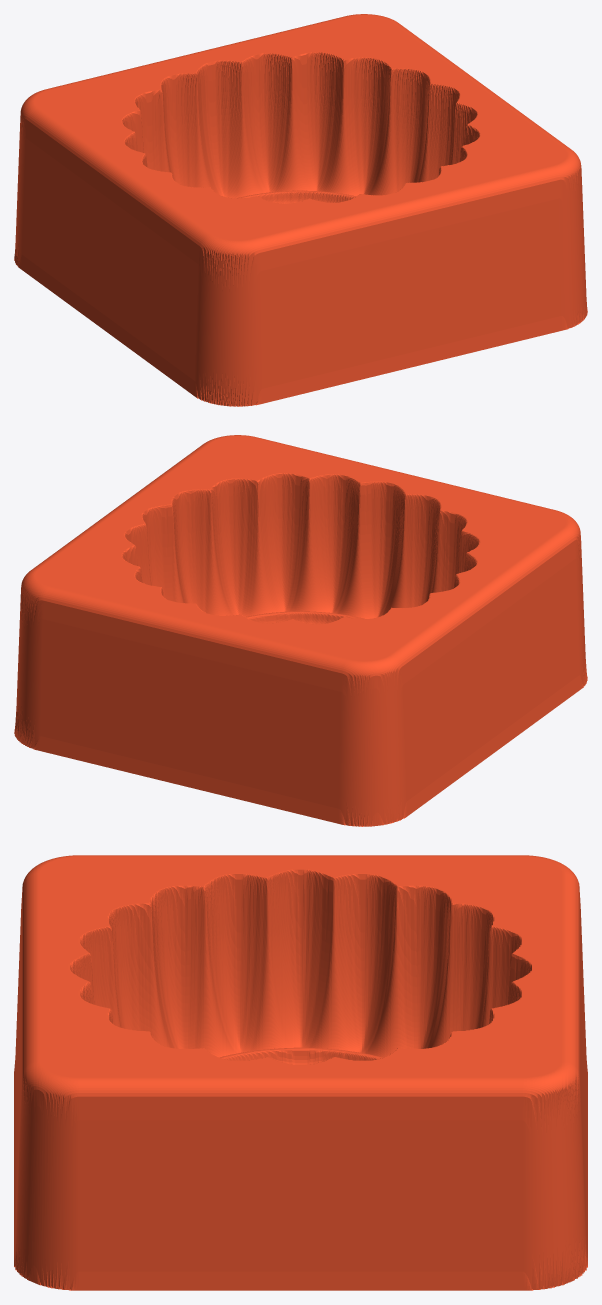
File: mold.glb
The picture shows the model from 3 angles, top to bottom: view 1: azimuth 30°, elevation 25°; view 2: azimuth 150°, elevation 25°; view 3: azimuth 270°, elevation 25°; orthographic projection. The views are drawn at different scales.
Visible parts, largest first — view 1: geometry_0; view 2: geometry_0; view 3: geometry_0.
Boxes of the visible parts, bbox=[...] form: geometry_0: bbox=[14, 14, 587, 406]; geometry_0: bbox=[14, 435, 587, 826]; geometry_0: bbox=[14, 855, 587, 1290].
Bounding box in the file's own units: 0.0798 × 0.031 × 0.0798.
